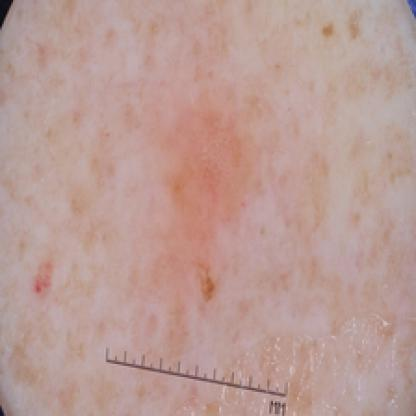malignant: (152, 102, 266, 318)
